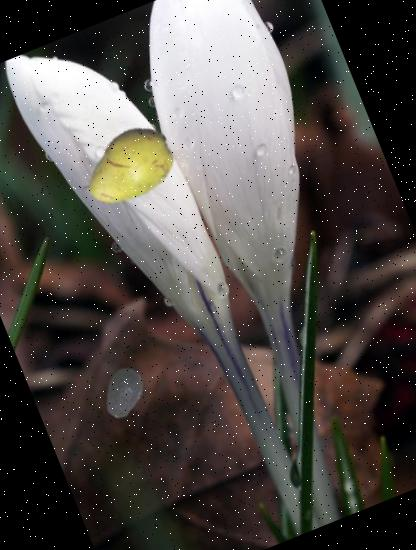Avocado: (90, 358, 159, 427)
Pear: (63, 104, 191, 232)
